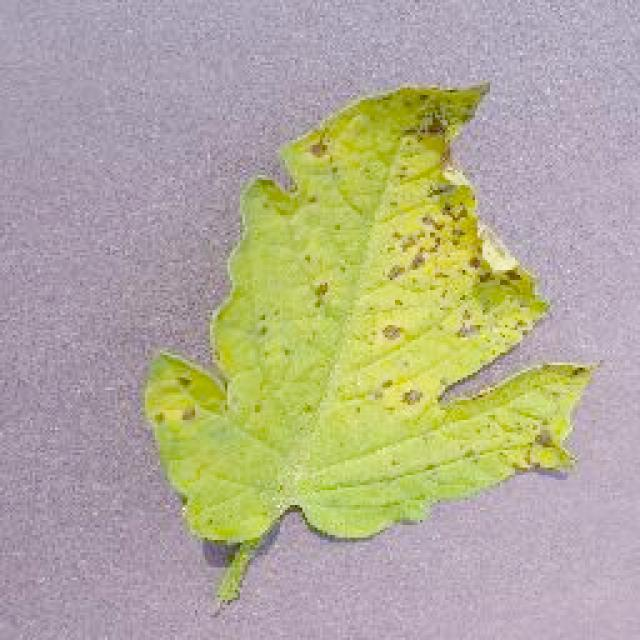Tomato Septoria spot leaf: (146, 77, 606, 545)
